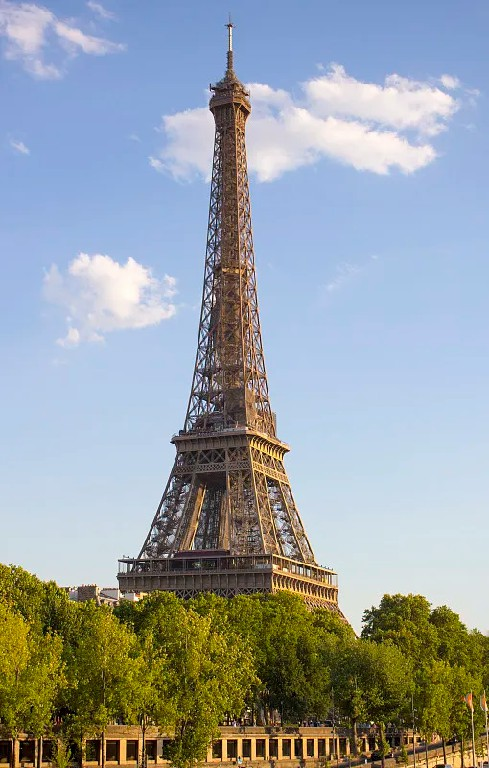Eiffel: (115, 12, 358, 641)
